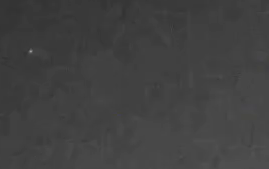Target: (30, 50, 33, 53)
